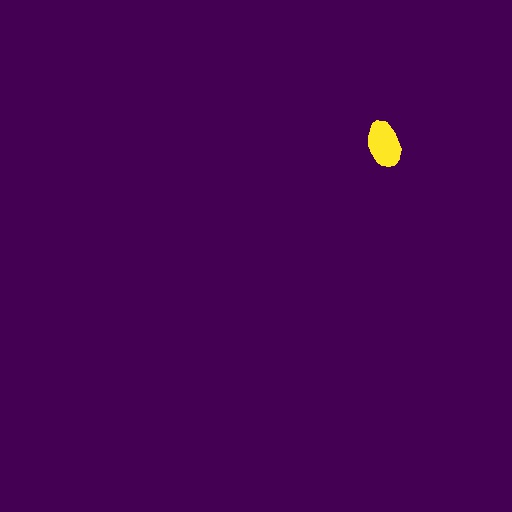Gliomia_tumour: (368, 120, 402, 167)
